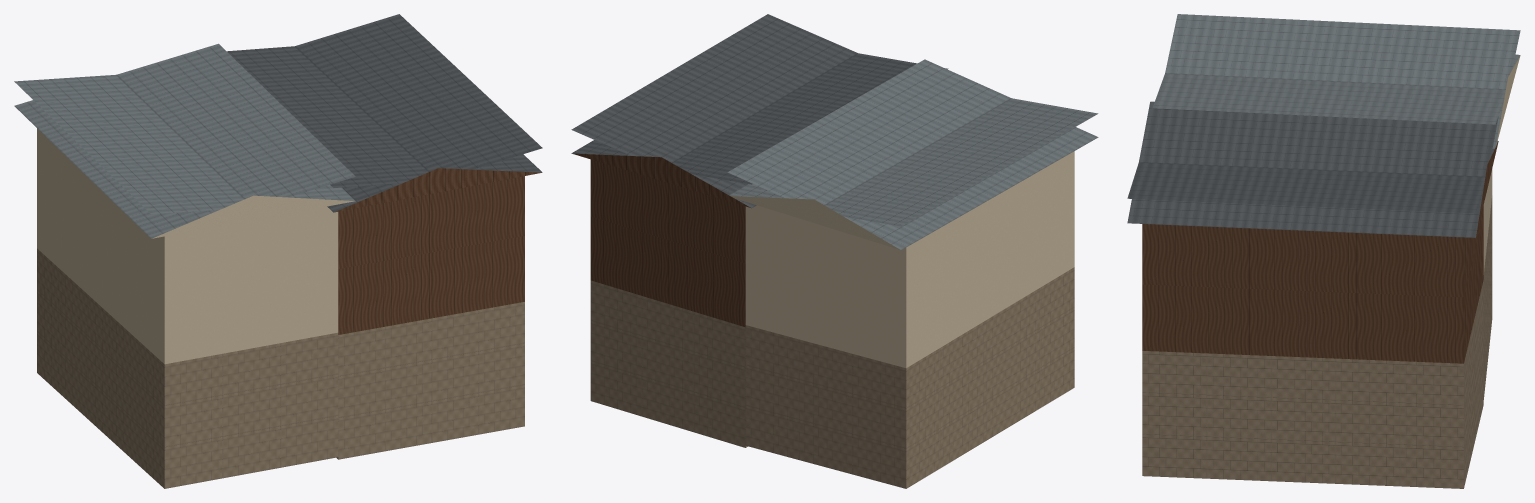
File: bld_c39_43_225.gltf
3 renders of one model, left to right at view 1: azimuth 30°, elevation 25°; view 2: azimuth 150°, elevation 25°; view 3: azimuth 270°, elevation 25°, orthographic. The views are drawn at different scales.
Parts seen in each view (by area): view 1: bld_c39_43_225; view 2: bld_c39_43_225; view 3: bld_c39_43_225.
Boxes of the visible parts, bbox=[...] form: bld_c39_43_225: bbox=[14, 14, 542, 488]; bld_c39_43_225: bbox=[571, 14, 1098, 488]; bld_c39_43_225: bbox=[1127, 14, 1520, 488].
Bounding box in the file's own units: 16.98 × 11.7 × 14.51.
Materials: 7 (7 with a texture image).
